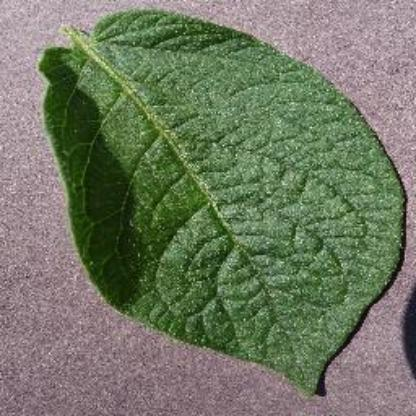Healthy-plant: (40, 6, 406, 400)
